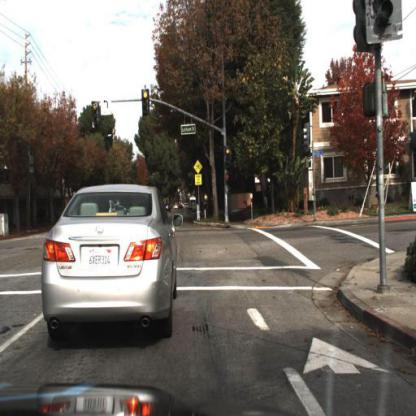car: (41, 186, 177, 338)
trafficLight-Red: (142, 91, 152, 122), (222, 141, 234, 162), (225, 147, 233, 173)
trafficLight-RedLeft: (91, 101, 100, 130)
